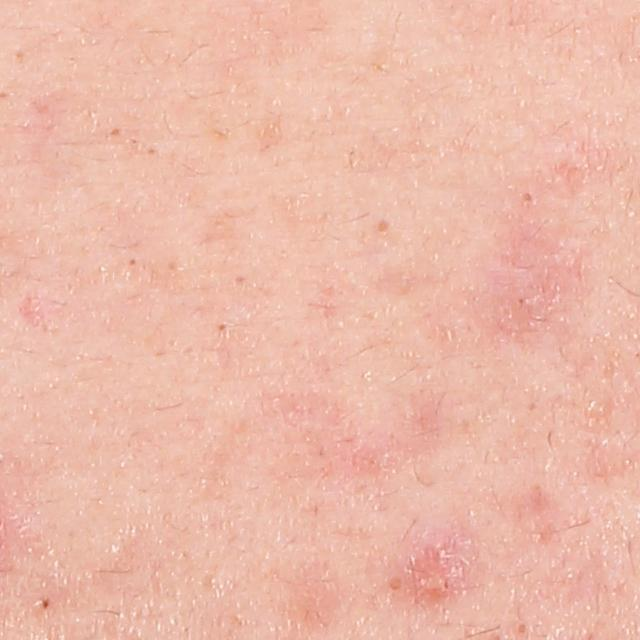comedo: (372, 215, 393, 239), (36, 596, 55, 611), (385, 576, 401, 593), (514, 620, 529, 636), (520, 190, 535, 204), (109, 126, 123, 139), (125, 257, 137, 268)
papule: (408, 538, 464, 590)
